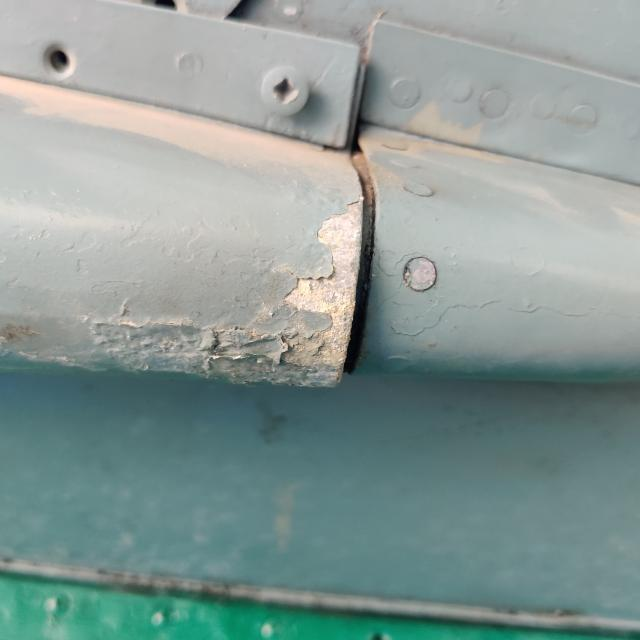missing-head: (24, 30, 88, 98)
paint-off: (190, 193, 374, 390)
